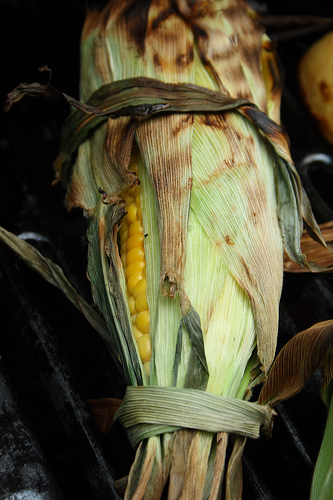corn: (72, 0, 289, 498)
